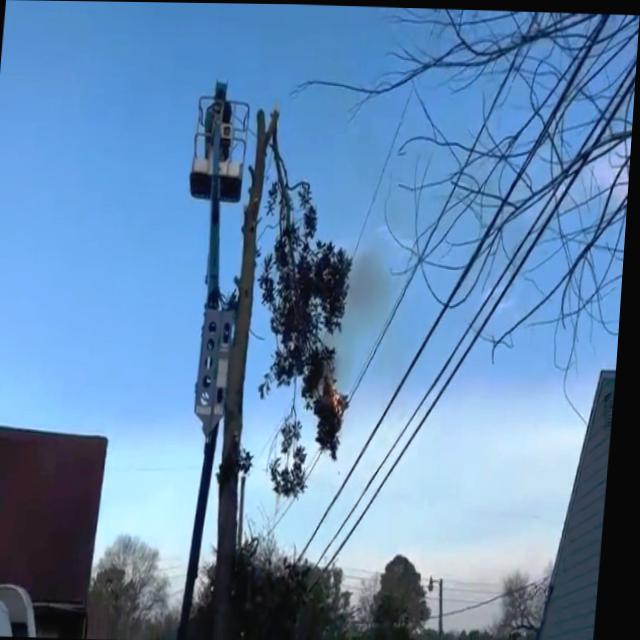obstruction: (262, 143, 356, 457), (275, 394, 314, 496)
wires: (328, 57, 637, 561), (371, 12, 607, 446), (355, 69, 512, 399), (309, 342, 429, 552), (355, 260, 422, 400), (280, 497, 300, 530), (313, 449, 329, 486)
